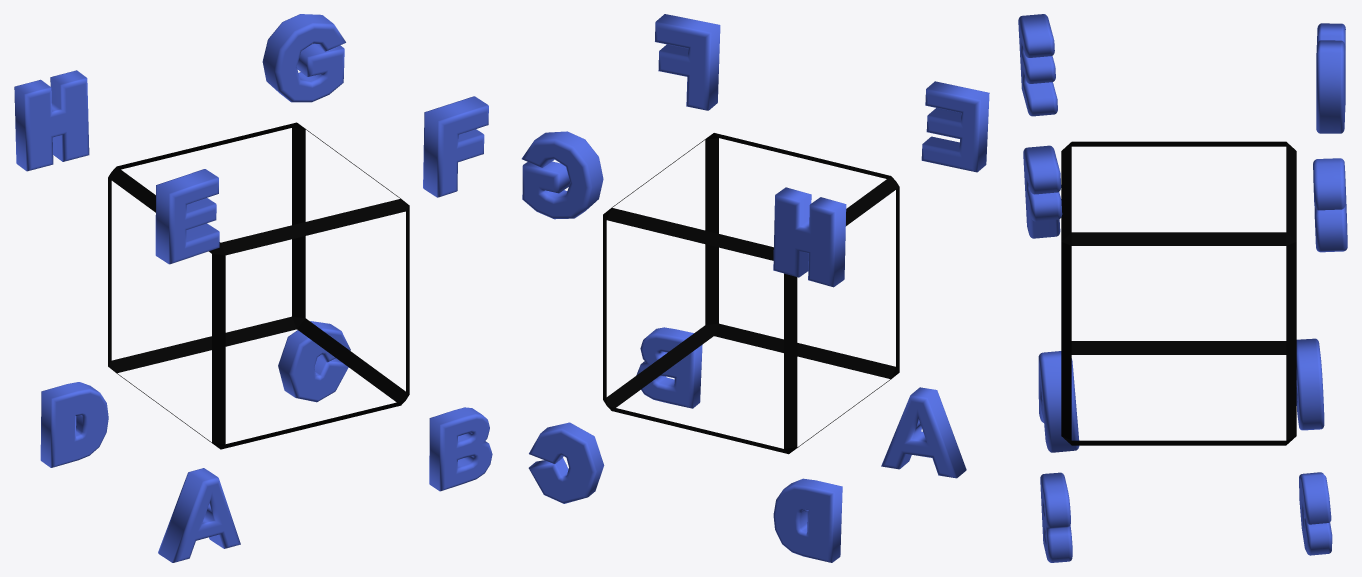
Rendered from kubus2.glb.
3 views of the same model, side by side, from view 1: azimuth 30°, elevation 25°; view 2: azimuth 150°, elevation 25°; view 3: azimuth 270°, elevation 25° (orthographic). The views are drawn at different scales.
Parts seen in each view (by area): view 1: Cube, Text.007, Text.006, Text.004, Text.003, Text.005, Text.009, Text.001, Text.002; view 2: Cube, Text.007, Text.006, Text.004, Text.003, Text.005, Text.002, Text.009, Text.001; view 3: Cube, Text.004, Text.007, Text.005, Text.006, Text.009, Text.001, Text.002, Text.003.
Part boxes in pixels (left/top/right/bottom): Cube: left=108, top=122, right=409, bottom=449; Text.007: left=14, top=70, right=89, bottom=171; Text.006: left=262, top=14, right=345, bottom=102; Text.004: left=155, top=169, right=219, bottom=264; Text.003: left=40, top=382, right=108, bottom=467; Text.005: left=423, top=96, right=488, bottom=197; Text.009: left=158, top=468, right=240, bottom=562; Text.001: left=429, top=407, right=492, bottom=491; Text.002: left=278, top=321, right=350, bottom=402; Cube: left=603, top=133, right=899, bottom=454; Text.007: left=773, top=187, right=846, bottom=287; Text.006: left=521, top=131, right=603, bottom=219; Text.004: left=921, top=81, right=989, bottom=172; Text.003: left=773, top=478, right=842, bottom=562; Text.005: left=655, top=14, right=720, bottom=110; Text.002: left=528, top=422, right=604, bottom=503; Text.009: left=881, top=387, right=966, bottom=478; Text.001: left=636, top=327, right=702, bottom=408; Cube: left=1061, top=141, right=1296, bottom=445; Text.004: left=1018, top=14, right=1057, bottom=116; Text.007: left=1316, top=23, right=1345, bottom=133; Text.005: left=1023, top=145, right=1062, bottom=238; Text.006: left=1313, top=158, right=1347, bottom=252; Text.009: left=1038, top=351, right=1079, bottom=452; Text.001: left=1040, top=472, right=1072, bottom=562; Text.002: left=1299, top=472, right=1332, bottom=555; Text.003: left=1296, top=338, right=1324, bottom=430.
Size of the model in its own units: 3.43 by 3.75 by 2.8.
